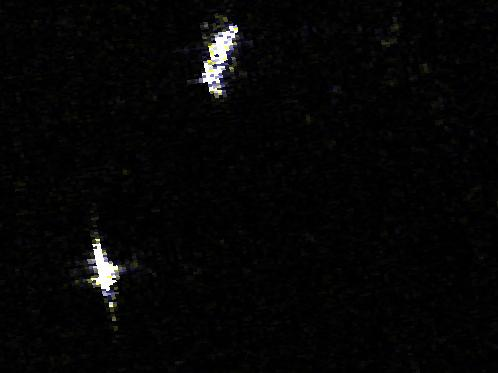ship: (198, 23, 241, 98), (84, 237, 125, 303)
